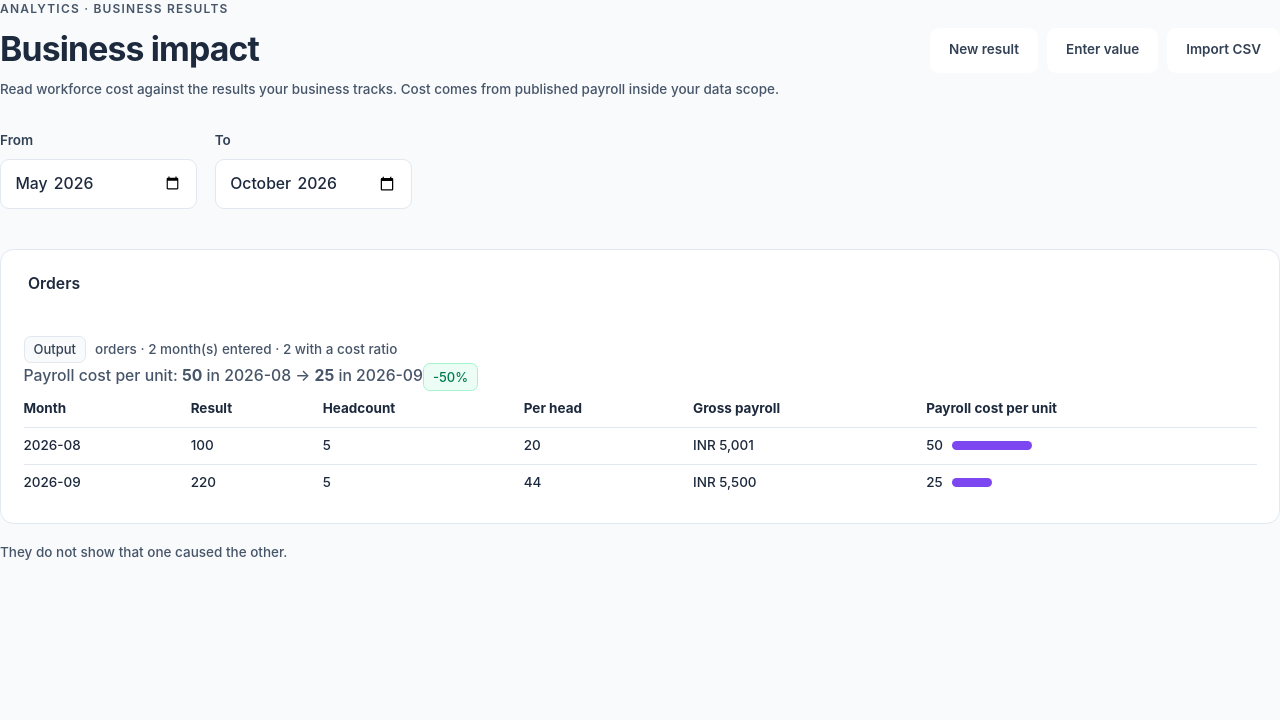
previews a CSV and only enables saving when every row is valid
What coordinates should you click on to do the following:
click the button "Import CSV"
I would click on:
 (1224, 50)
Its box is [1167,28,1279,73].
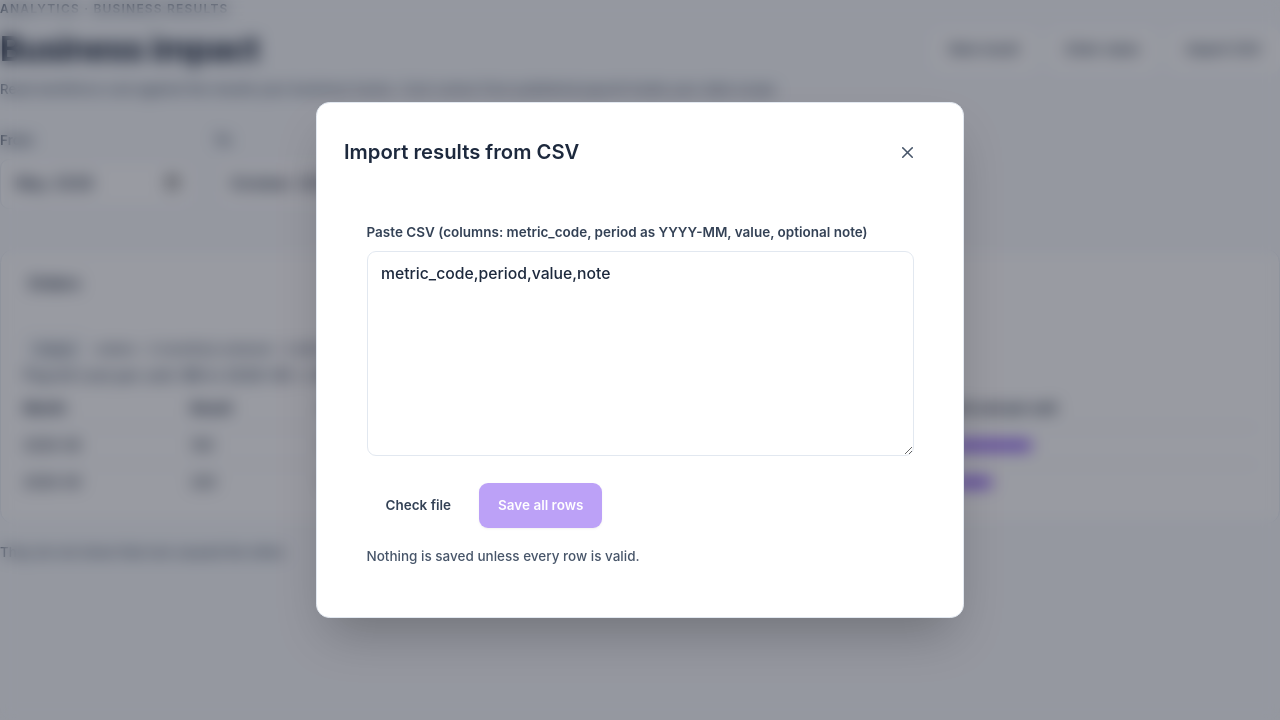
What coordinates should you click on to do the following:
click the button "Check file"
I would click on:
 (418, 506)
Its box is [366,483,470,528].
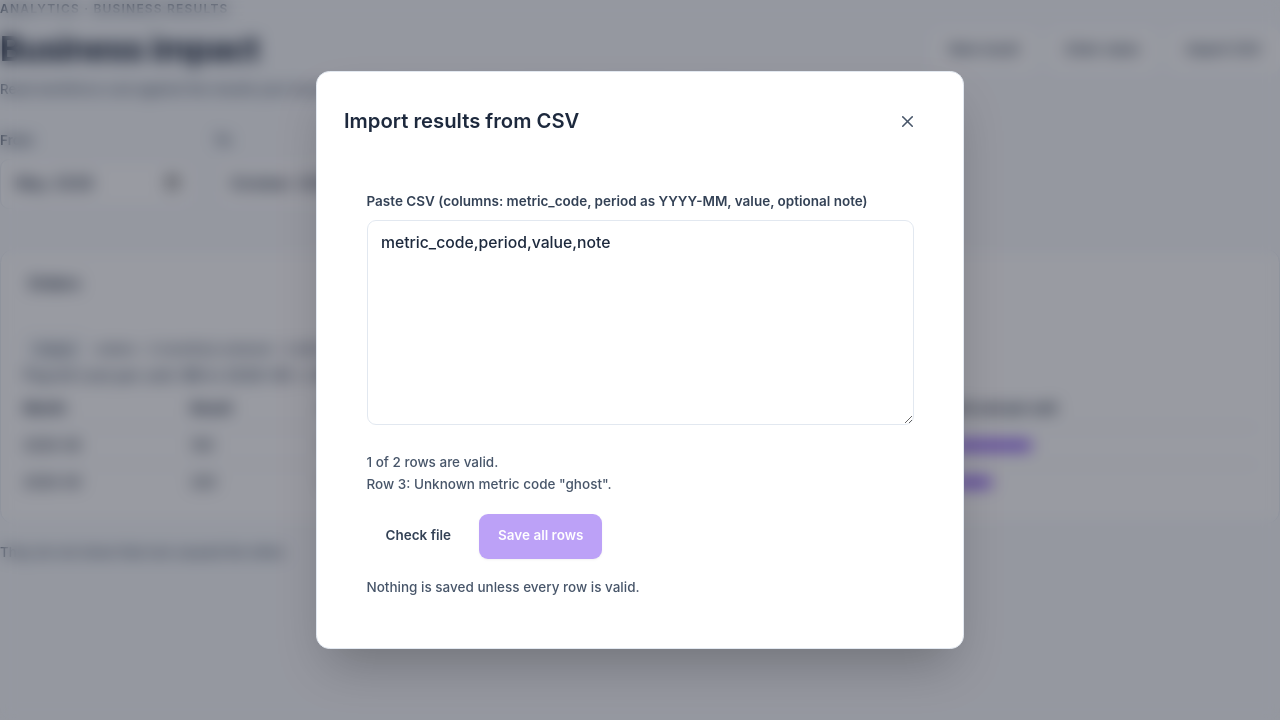
Now the button "Save all rows" is disabled, box [479,514,602,559]
Now the text "Row 3: Unknown metric code \"ghost\"." is shown, box [366,476,612,492]
